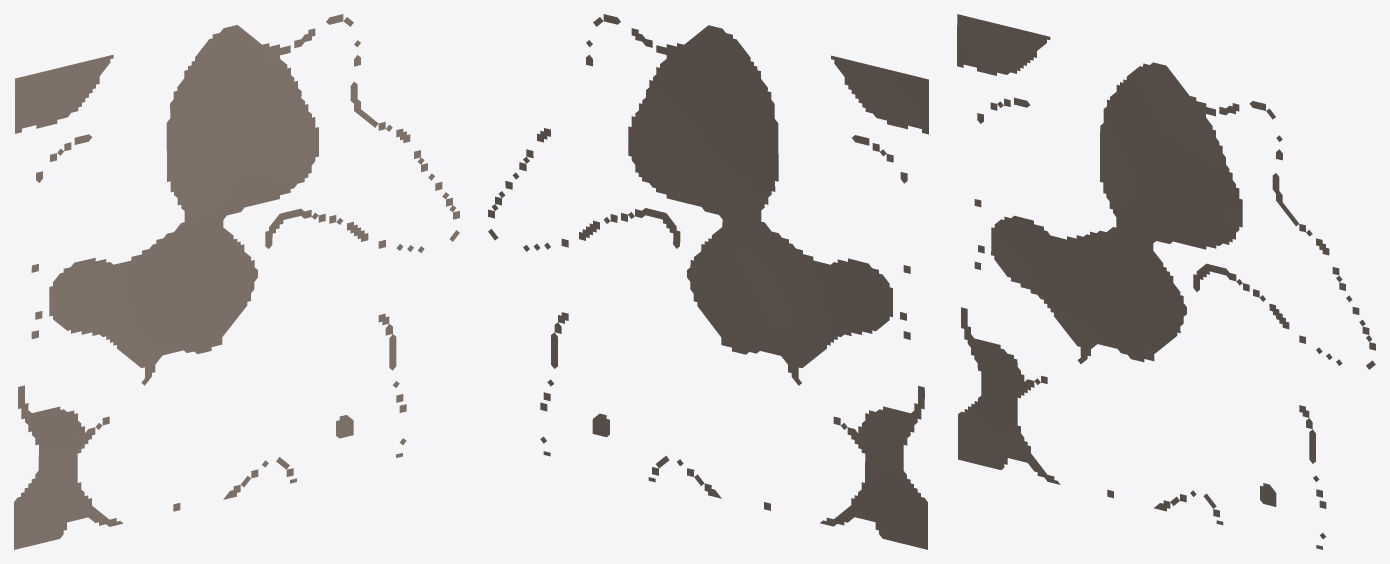
3 renders of one model, left to right at view 1: azimuth 30°, elevation 25°; view 2: azimuth 150°, elevation 25°; view 3: azimuth 330°, elevation 25°, orthographic. The views are drawn at different scales.
Parts seen in each view (by area): view 1: world; view 2: world; view 3: world.
Boxes of the visible parts, left/top/right/bottom form: world: left=14, top=14, right=459, bottom=549; world: left=488, top=14, right=928, bottom=549; world: left=957, top=14, right=1375, bottom=549.
Size of the model in its own units: 12600 by 12800 by 102.
